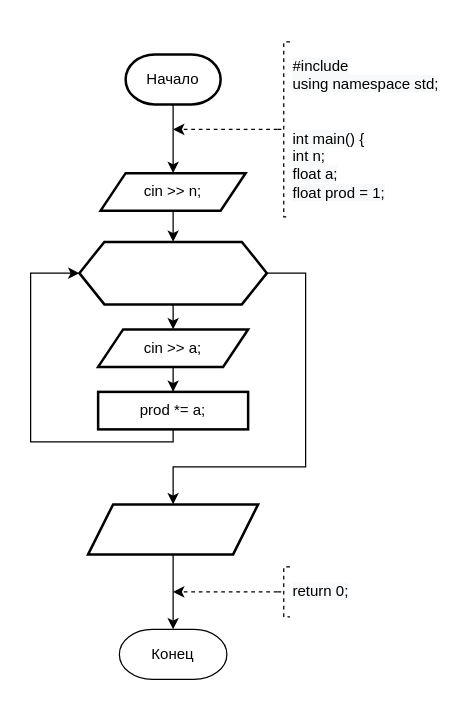
Image size: 460x701. Some labels were removed from this diagram. Each missing label, with the centre of its shape:
cout << prod: the point at 172,528
int i = 0; i < n; ++i: the point at 173,272
